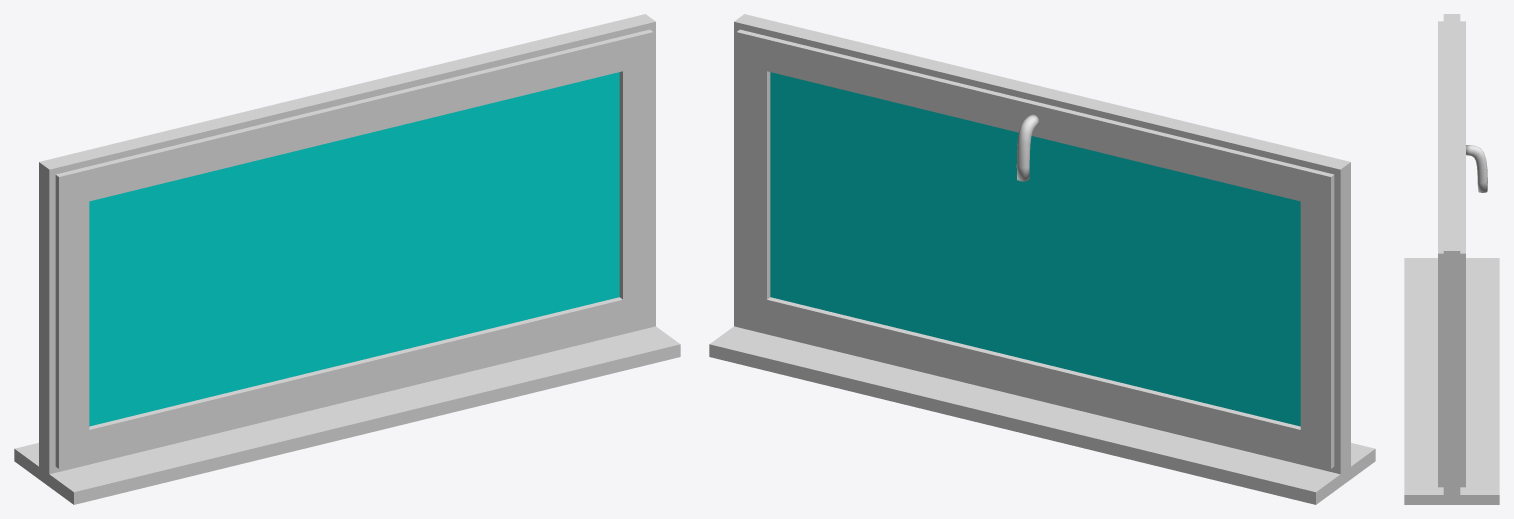
The model's file is Window_Bathroom.fbx.
3 renders of one model, left to right at view 1: azimuth 30°, elevation 25°; view 2: azimuth 150°, elevation 25°; view 3: azimuth 270°, elevation 25°, orthographic. The views are drawn at different scales.
Visible parts, largest first — view 1: BathroomWindow; view 2: BathroomWindow; view 3: BathroomWindow.
Boxes of the visible parts, box(x1,y1,x2,y2) form: BathroomWindow: box(14, 14, 680, 504); BathroomWindow: box(709, 14, 1375, 504); BathroomWindow: box(1404, 14, 1499, 504).
Bounding box in the file's own units: 100 × 50 × 17.
